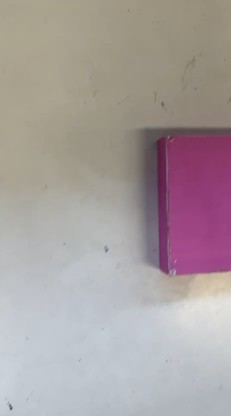pink: (159, 130, 219, 276)
